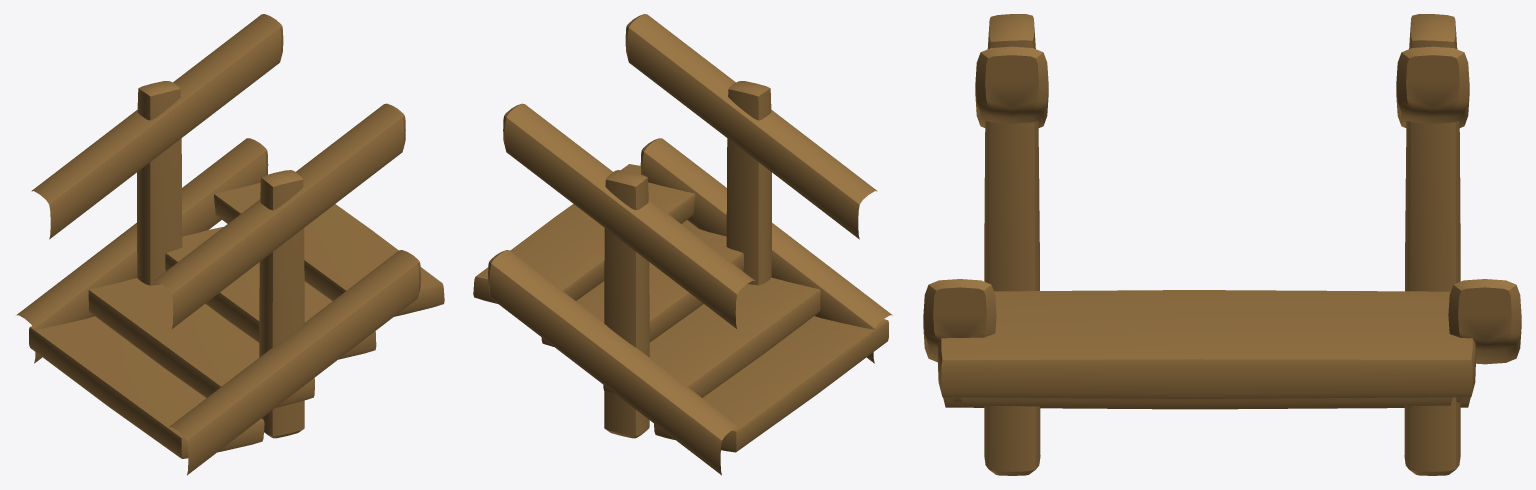
File: Stairs_Modular_End.glb
The picture shows the model from 3 angles, left to right: view 1: azimuth 30°, elevation 25°; view 2: azimuth 150°, elevation 25°; view 3: azimuth 270°, elevation 25°; orthographic projection. The views are drawn at different scales.
Visible parts, largest first — view 1: Stairs_Modular_End; view 2: Stairs_Modular_End; view 3: Stairs_Modular_End.
Part boxes in pixels (<box>): Stairs_Modular_End: <box>16,14,444,475</box>; Stairs_Modular_End: <box>473,14,892,475</box>; Stairs_Modular_End: <box>923,14,1521,475</box>.
Size of the model in its own units: 2.26 by 2.42 by 2.56.
